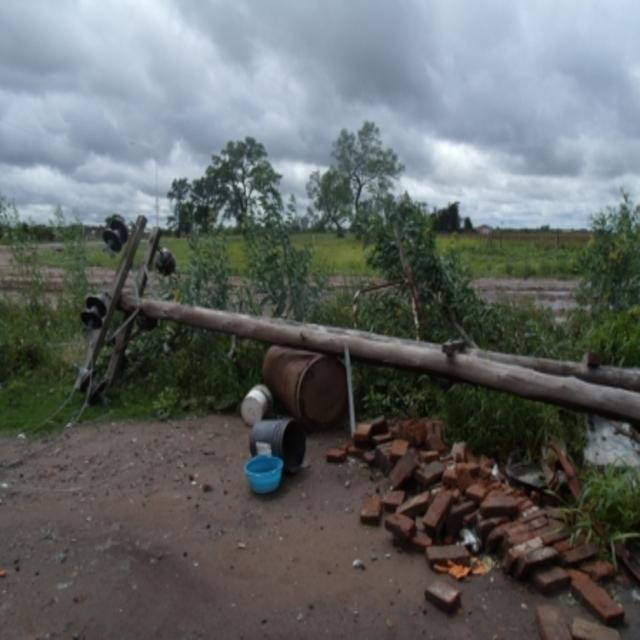Inclined Pole: (56, 205, 640, 423)
